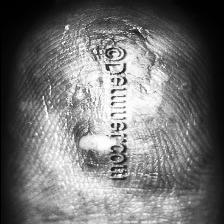Non-Cancerous Skin Condition: (46, 30, 104, 188), (137, 58, 185, 198)
